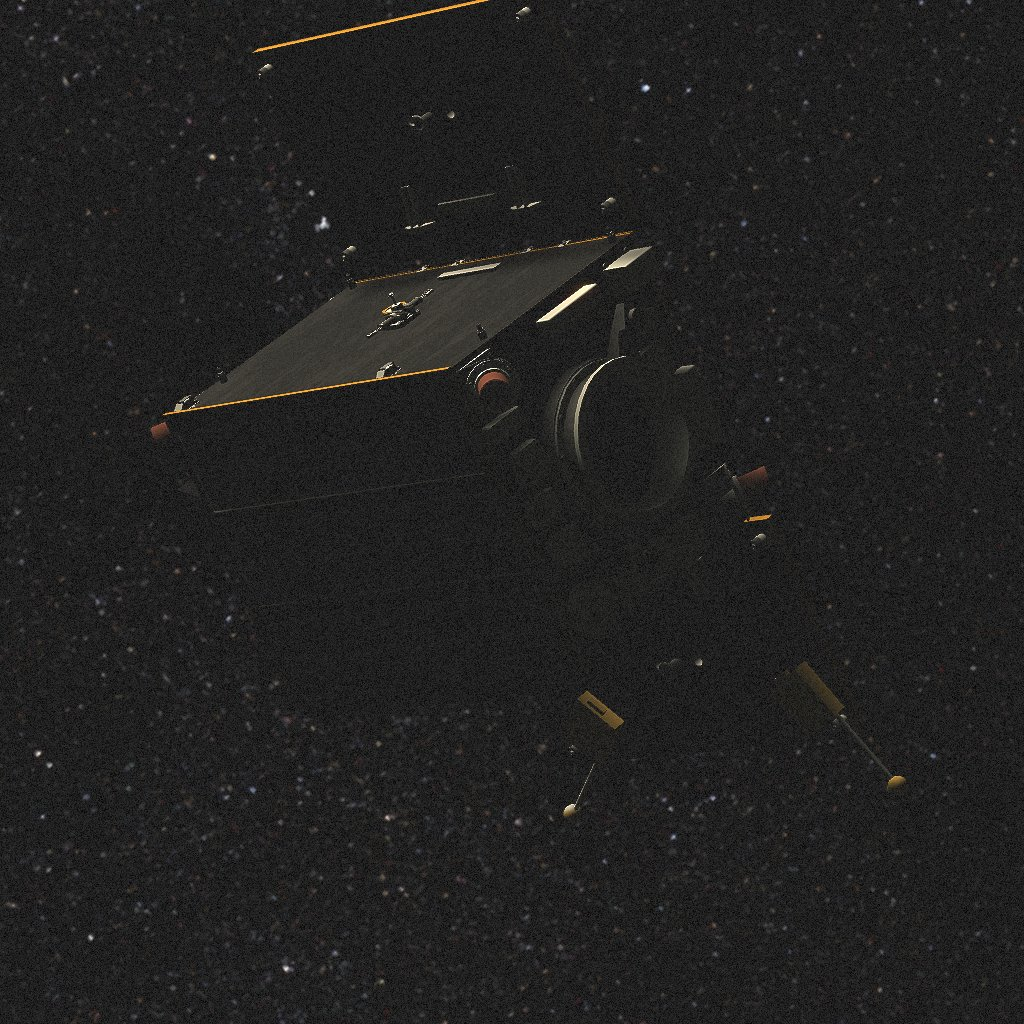proba_2: (151, 0, 908, 823)
